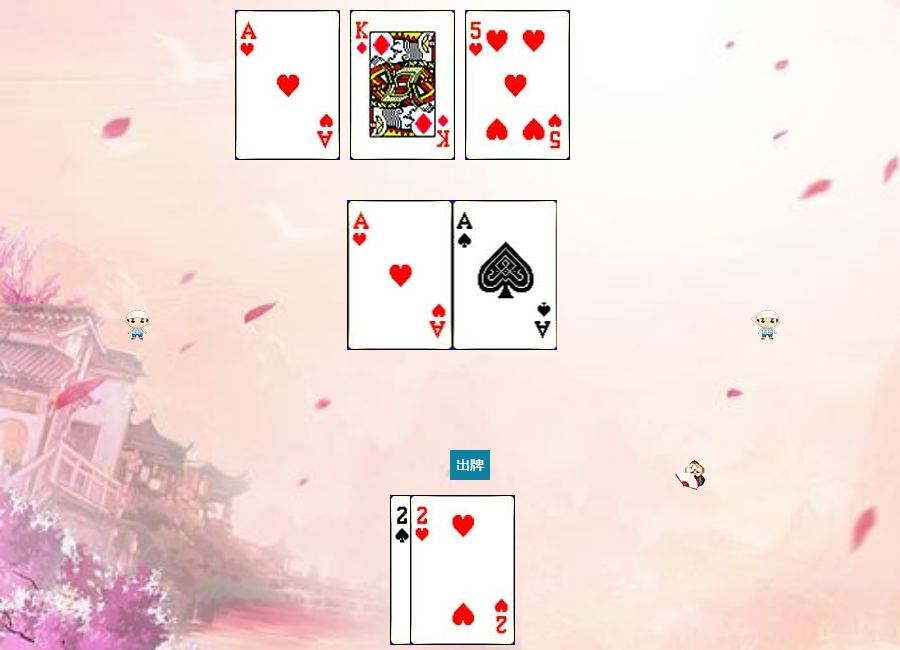13~1: (350, 10, 455, 160)
14~3: (235, 10, 340, 160), (348, 200, 453, 350)
14~4: (453, 200, 558, 350)
15~3: (410, 495, 515, 645)
15~4: (390, 495, 495, 645)
5~3: (465, 10, 570, 160)
